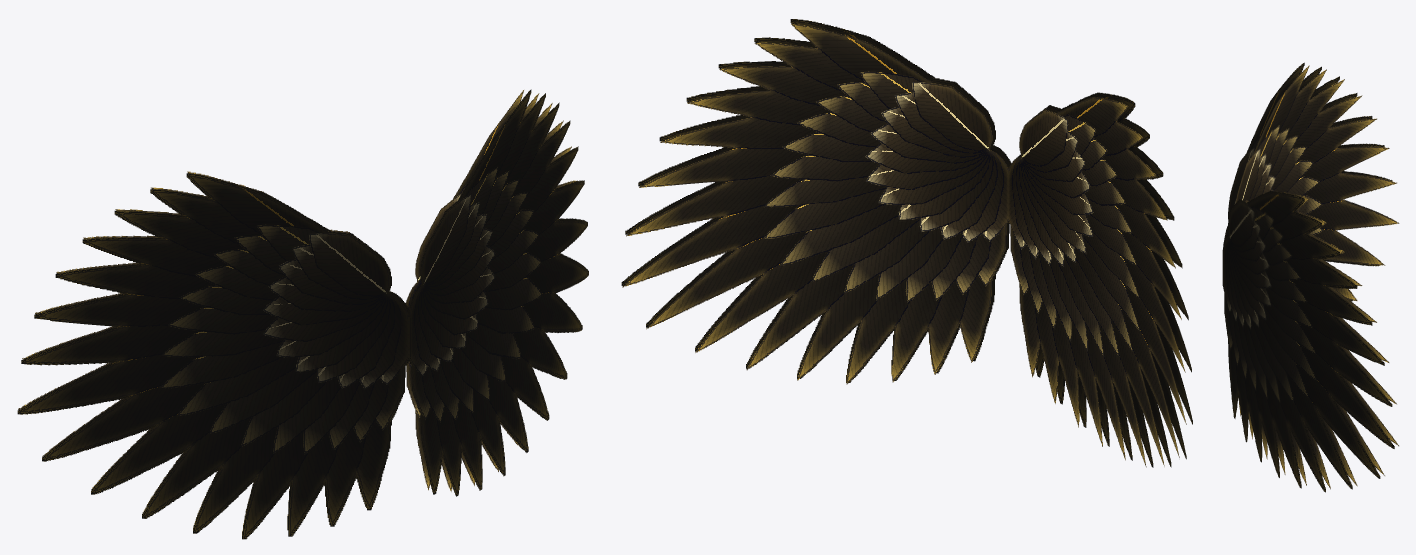
The model's file is obsidian_gold_wings.glb.
The picture shows the model from 3 angles, left to right: view 1: azimuth 30°, elevation 25°; view 2: azimuth 150°, elevation 25°; view 3: azimuth 270°, elevation 25°; orthographic projection. The views are drawn at different scales.
Visible parts, largest first — view 1: Obsidian Gold Wings Wing Right, Obsidian Gold Wings Wing Left; view 2: Obsidian Gold Wings Wing Left, Obsidian Gold Wings Wing Right; view 3: Obsidian Gold Wings Wing Left, Obsidian Gold Wings Wing Right.
Boxes of the visible parts, left/top/right/bottom form: Obsidian Gold Wings Wing Right: left=17, top=171, right=411, bottom=539; Obsidian Gold Wings Wing Left: left=405, top=89, right=588, bottom=496; Obsidian Gold Wings Wing Left: left=621, top=19, right=1011, bottom=384; Obsidian Gold Wings Wing Right: left=1008, top=92, right=1192, bottom=467; Obsidian Gold Wings Wing Left: left=1222, top=191, right=1398, bottom=492; Obsidian Gold Wings Wing Right: left=1222, top=62, right=1399, bottom=301.
Bounding box in the file's own units: 2 × 1.23 × 0.6672.
Materials: 2 (2 with a texture image).
